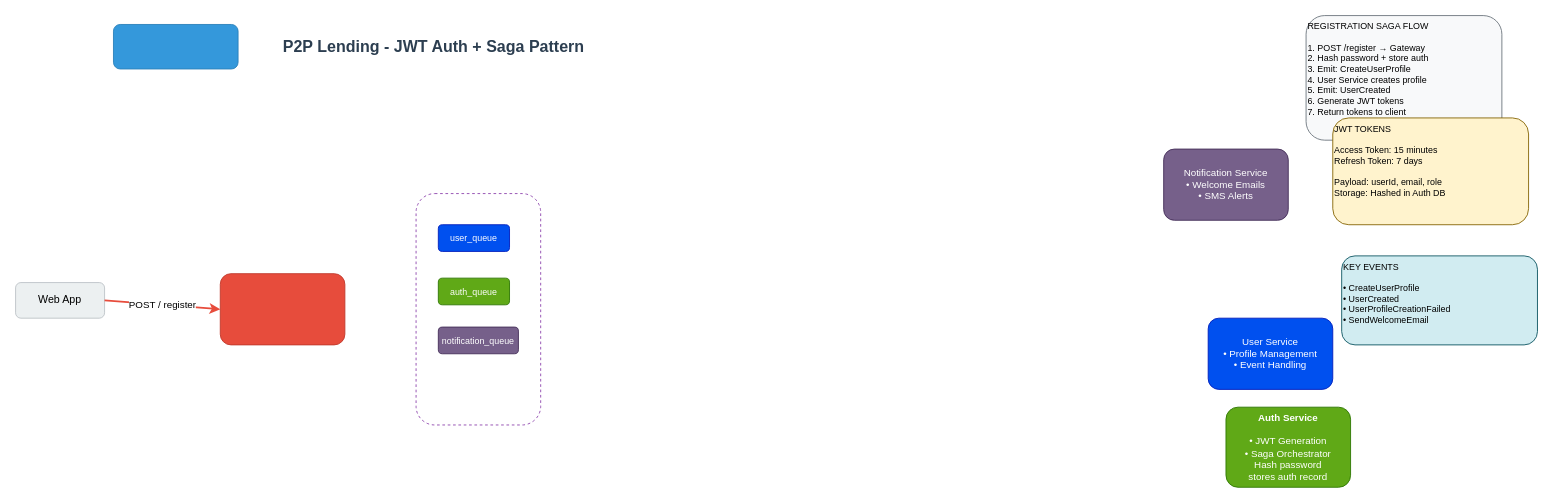
The diagram is 1553 pixels wide and 503 high, and some of its shapes have lost their labels. The centre of each missing label's shape, as x and y in pixels:
API GATEWAY: pixel 282 309
CLIENT APPS: pixel 175 46
